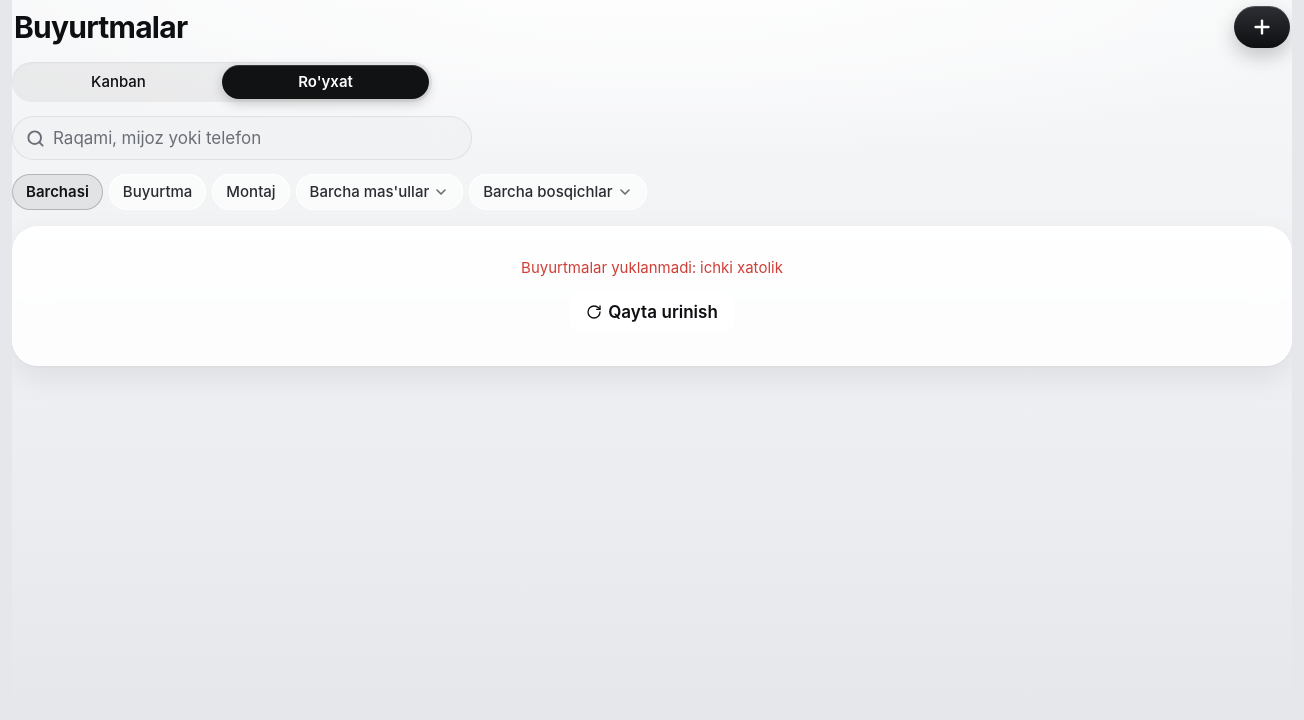
Test: a list that did not load says why and offers to try again
Expected: the message reads "Buyurtmalar yuklanmadi: ichki xatolik", top-left (521, 258), bottom-right (783, 277)
Click the button "Qayta urinish": [652, 312] box top-left (569, 290), bottom-right (735, 334)
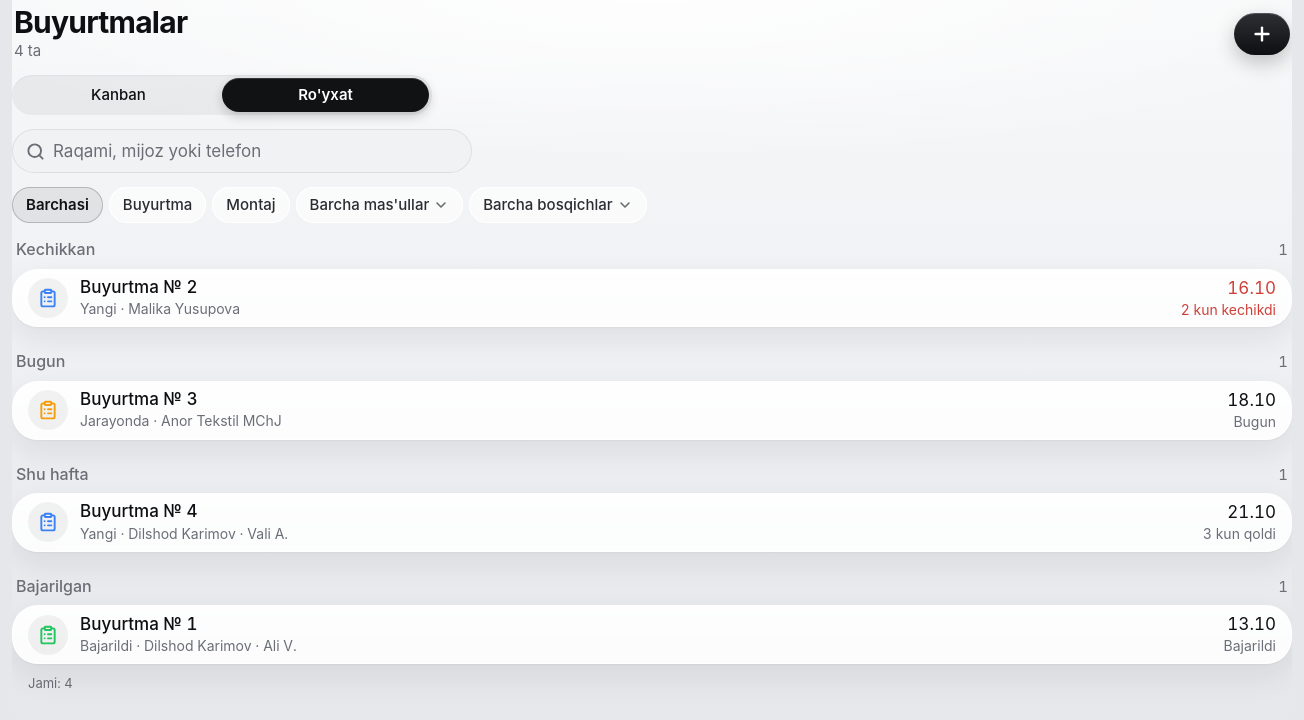
Result: the number of links is 4 at top-left (12, 268), bottom-right (1292, 328); top-left (12, 381), bottom-right (1292, 440); top-left (12, 493), bottom-right (1292, 552); top-left (12, 605), bottom-right (1292, 664)
Result: the message "Buyurtmalar yuklanmadi: ichki xatolik" is gone
